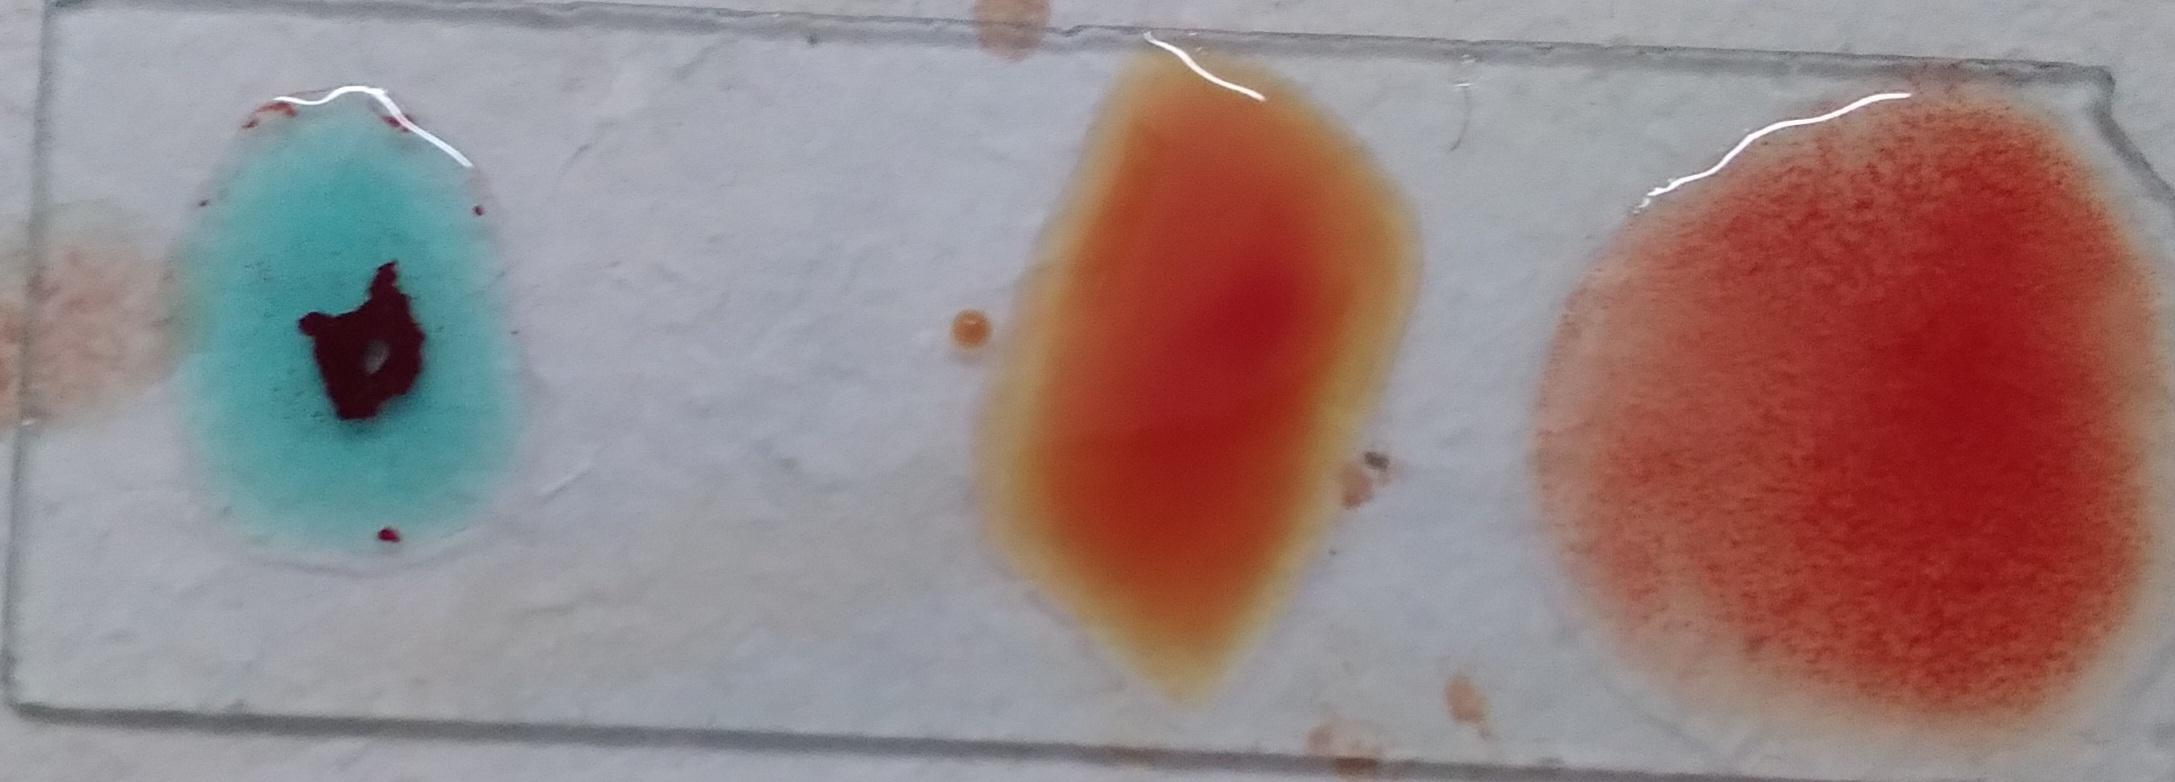A: (1633, 215, 2029, 709)
D: (49, 57, 580, 686)
